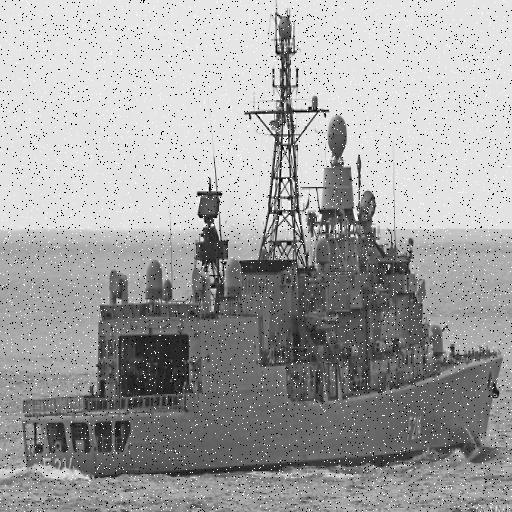Fragata: (22, 1, 506, 485)
